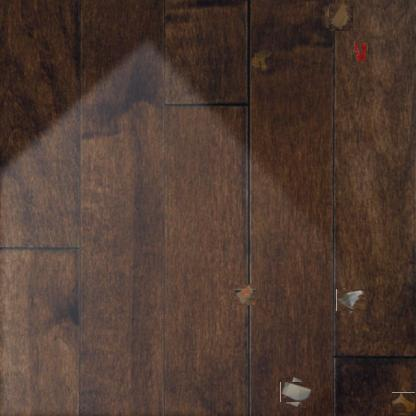dirty: (283, 380, 309, 405), (338, 288, 364, 313), (326, 5, 352, 29), (249, 47, 273, 73), (235, 283, 256, 305)
liquid: (393, 392, 416, 414), (352, 40, 368, 64)
